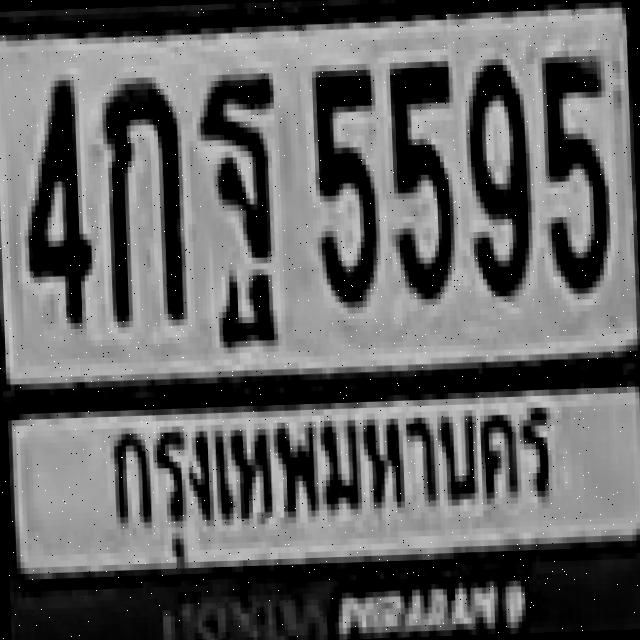10GorGai: (101, 73, 183, 318)
25ThorThan: (195, 67, 276, 306)
4: (19, 73, 90, 324)
5: (537, 49, 608, 288), (307, 63, 378, 302), (385, 55, 452, 294)
9: (463, 52, 530, 292)
Bangkok: (91, 388, 560, 532)
